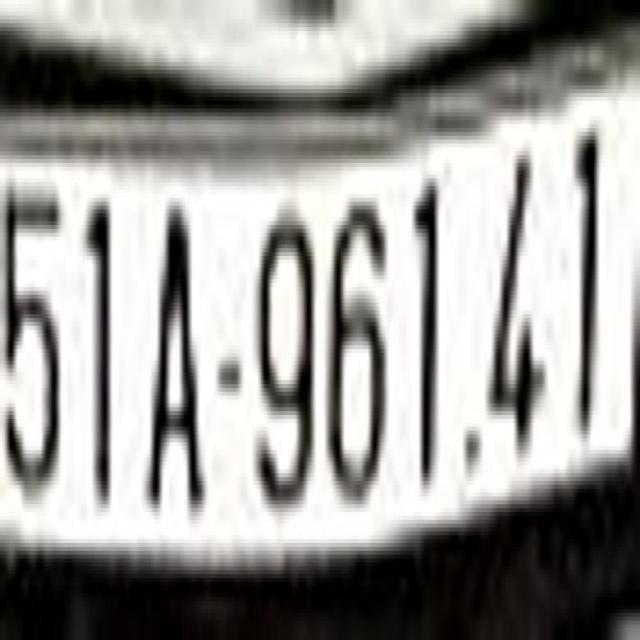1: (76, 163, 124, 539), (404, 143, 452, 516), (566, 101, 616, 458)
4: (486, 124, 546, 473)
5: (2, 155, 62, 508)
6: (324, 171, 386, 516)
9: (256, 178, 315, 536)
A: (144, 178, 206, 547)
